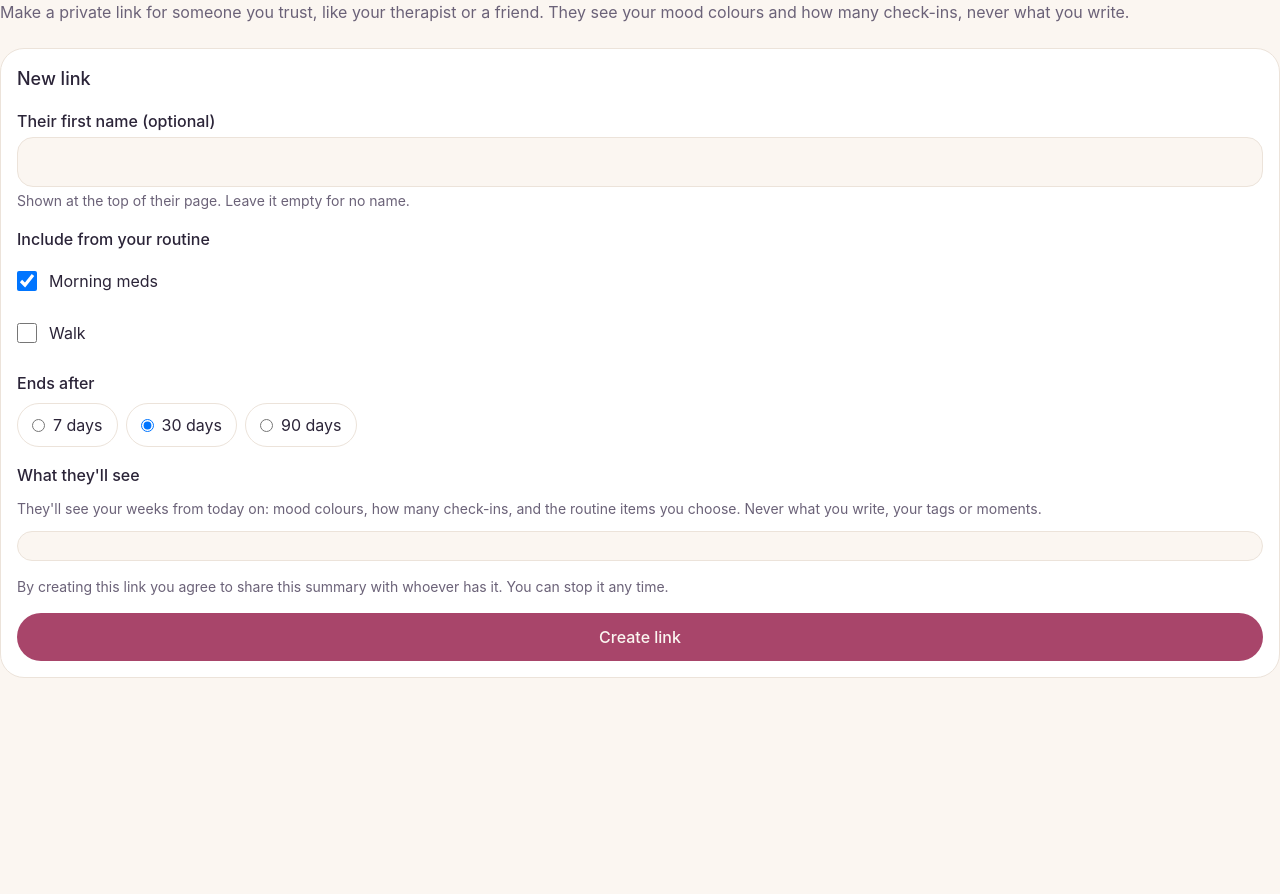
Scenario: Me → Share your week › Create: the link shown once, with Copy; the options sent; the list reloaded
Type "Lee" into the field with test id "share-name".
click(640, 162); type("Lee")  # box x1=17 y1=137 x2=1263 y2=187
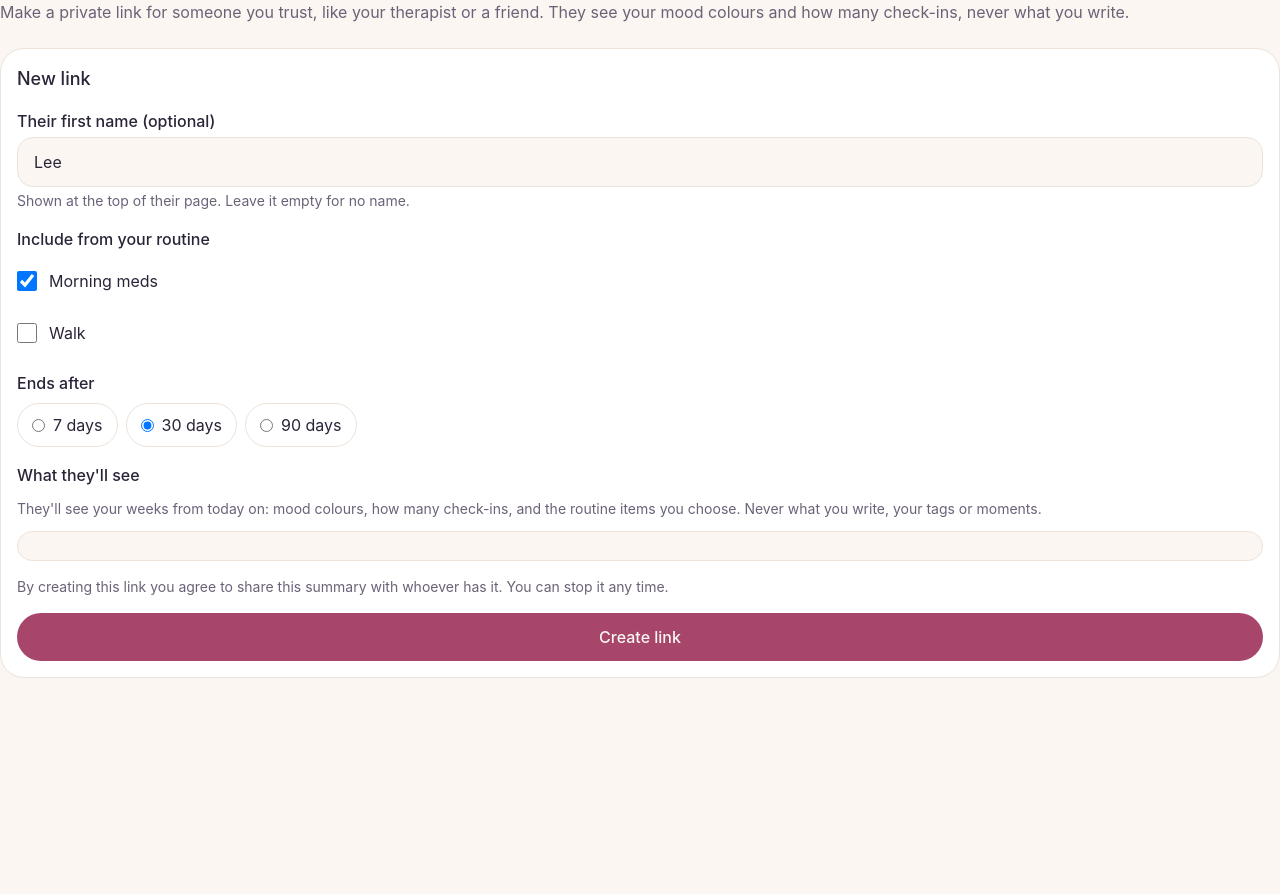
Click the radio button with test id "share-expiry-90".
click(266, 425)  # box x1=260 y1=418 x2=273 y2=432
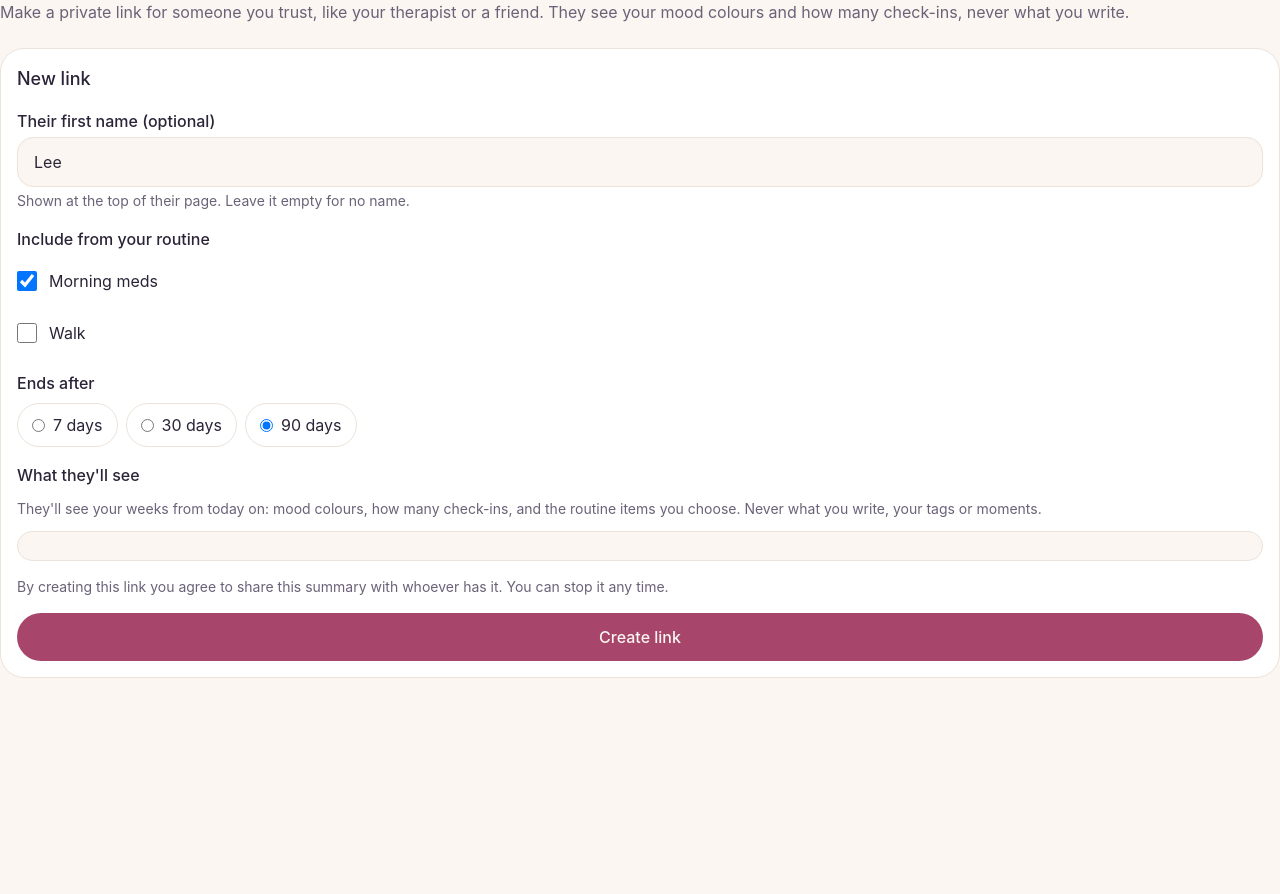
Click the button with test id "share-create".
click(640, 637)  # box x1=17 y1=613 x2=1263 y2=661
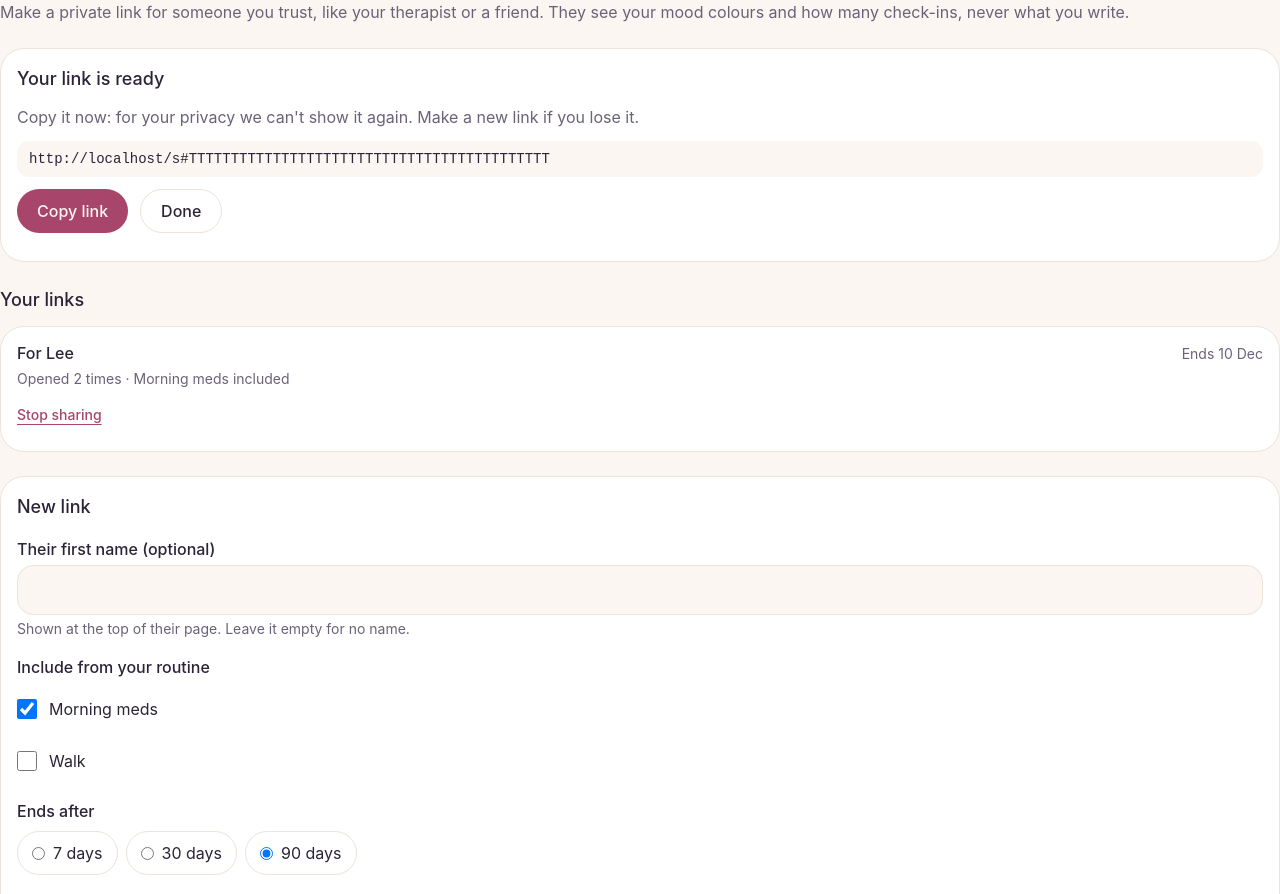
Now the button with test id "share-copy" reads "Copy link", box x1=17 y1=189 x2=128 y2=233
